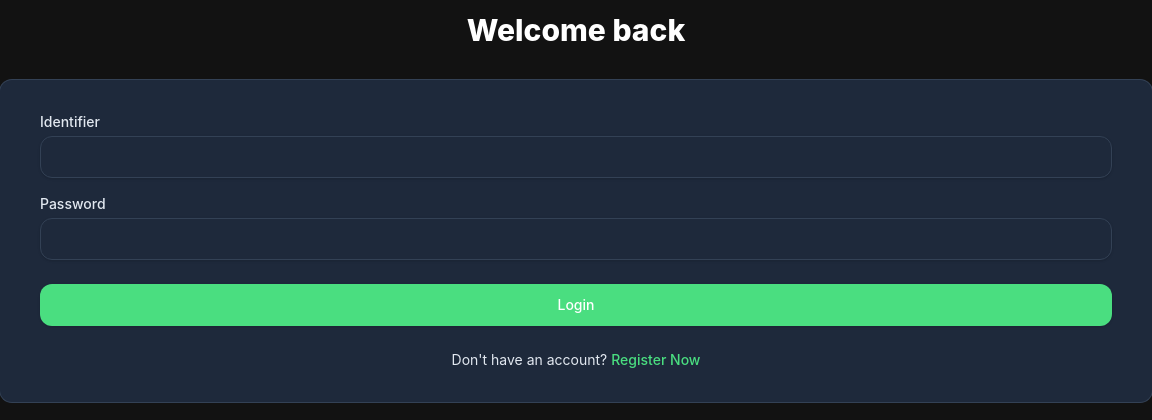
it: Login Component › Form Submission & Navigation › should show pending state while login mutation is running
This screenshot has width=1152, height=420.
In the field labelled "Identifier": (576, 157) [40,136,1112,178], type "testUser"
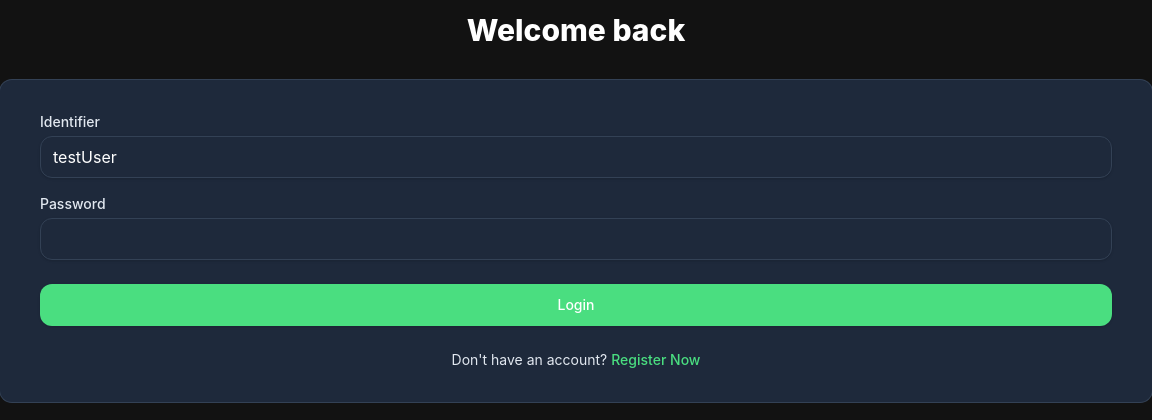
In the password field labelled "Password": (576, 239) [40,218,1112,260], type "password"
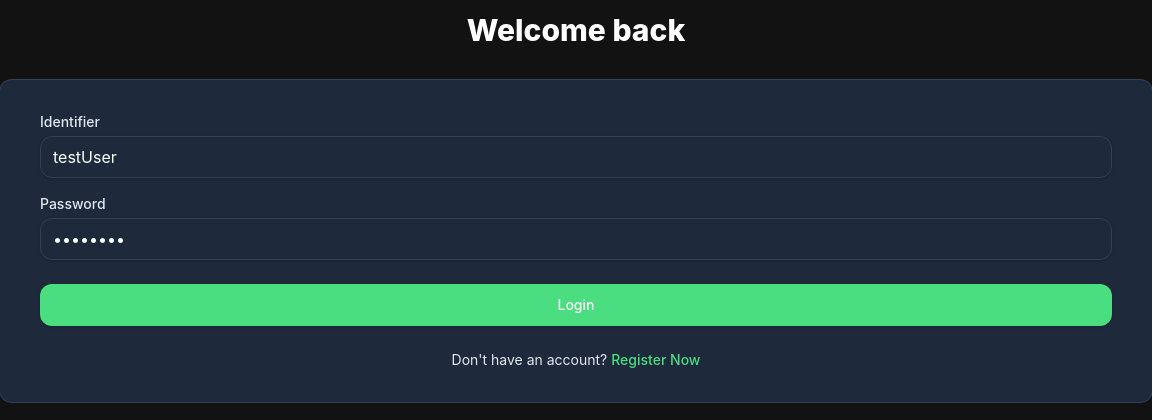
Click the button "Login": (576, 305) [40,284,1112,326]
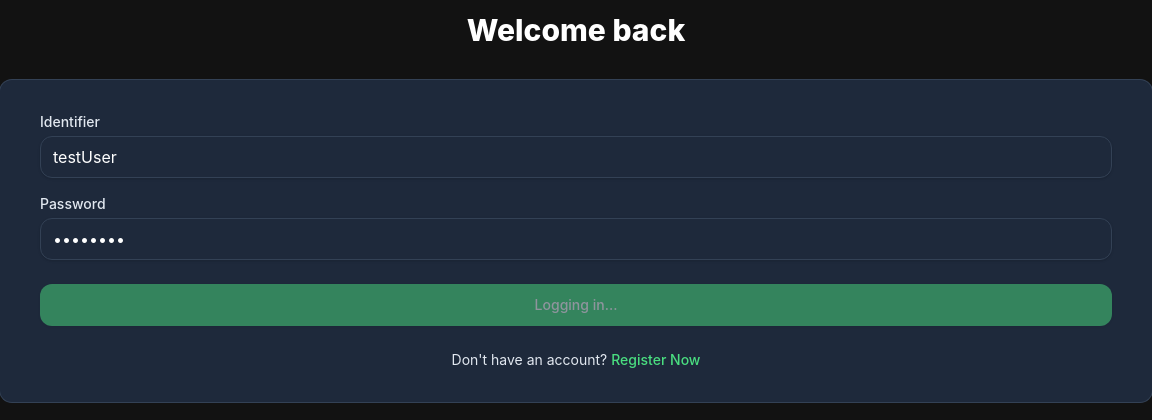
Check: the button named "login" is disabled, box [40,284,1112,326]
Check: the button named "login" reads "Logging in...", box [40,284,1112,326]
